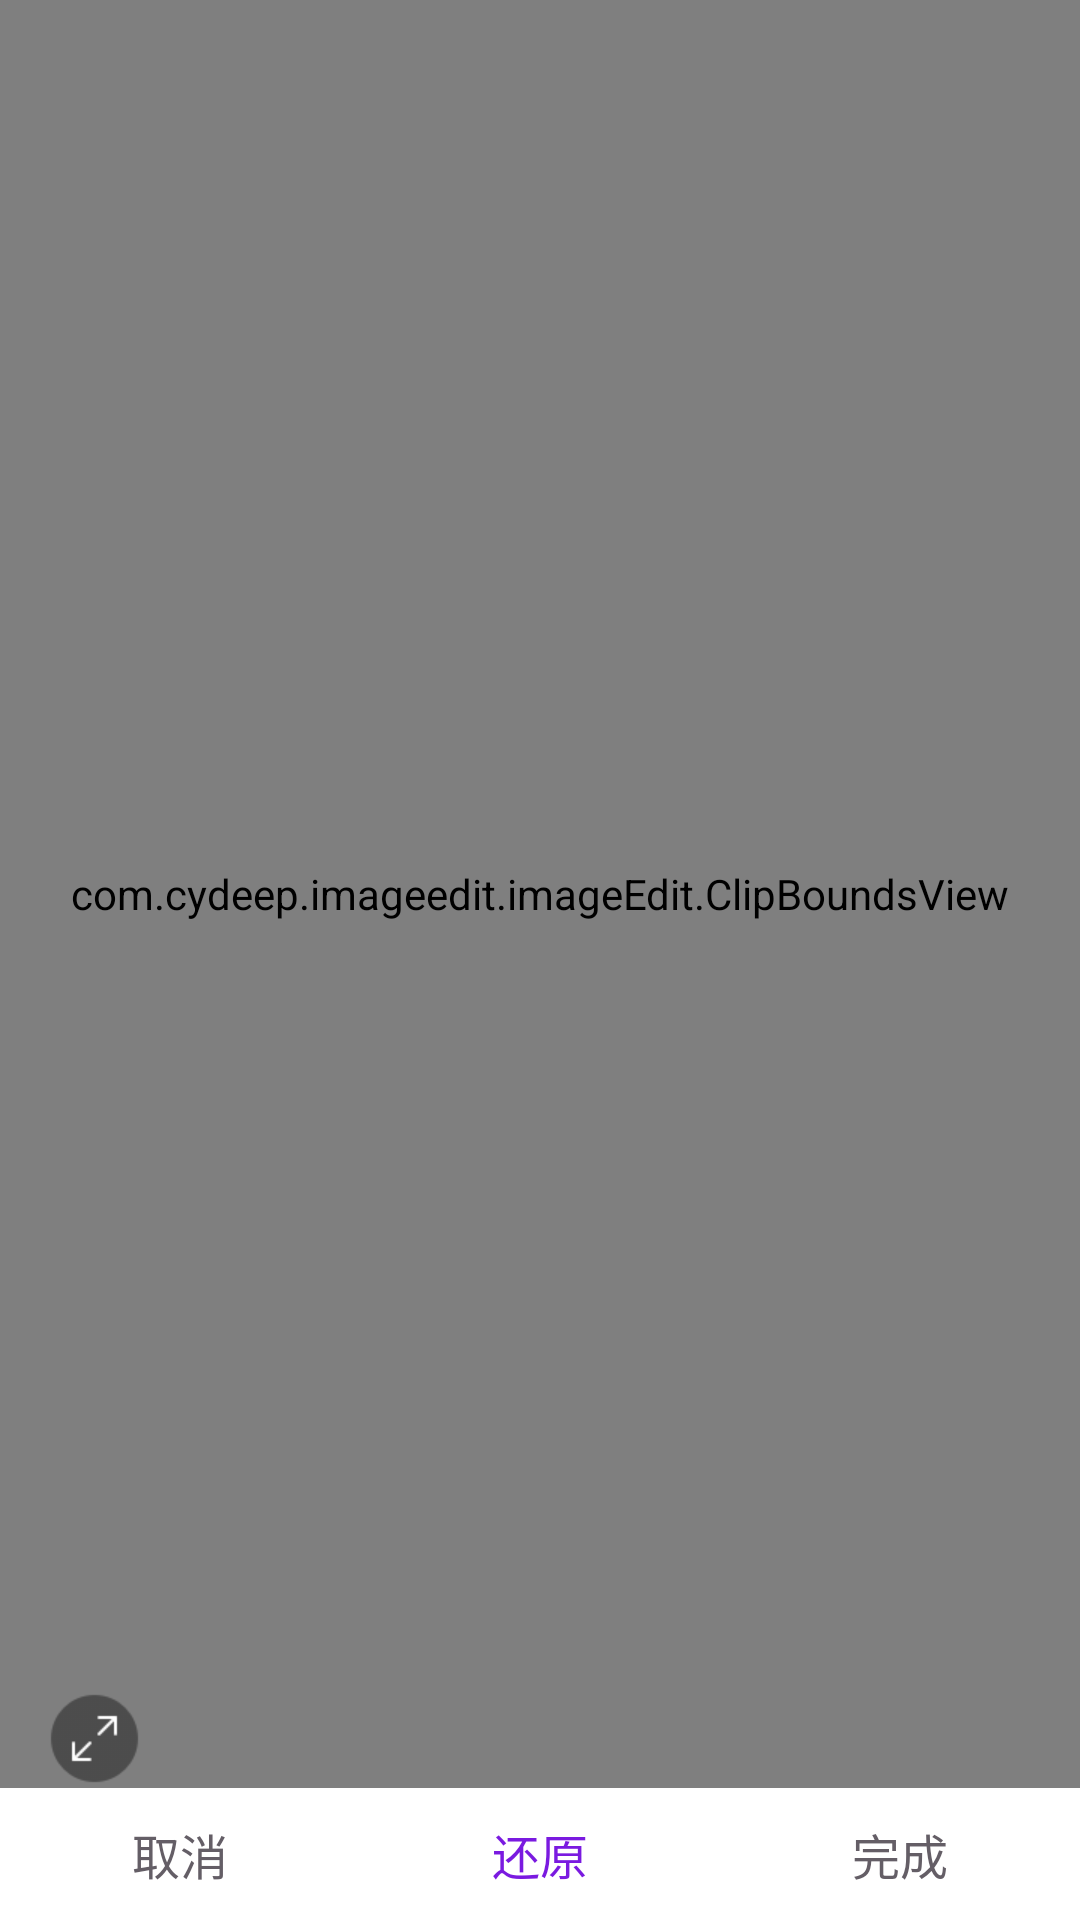

Locate icon controls on the screen. Image size 1080w x 1920h, boxes as {"x1": x1, "y1": y1, "x2": x2, "y2": y2}.
photo scale: {"x1": 51, "y1": 1695, "x2": 138, "y2": 1782}
